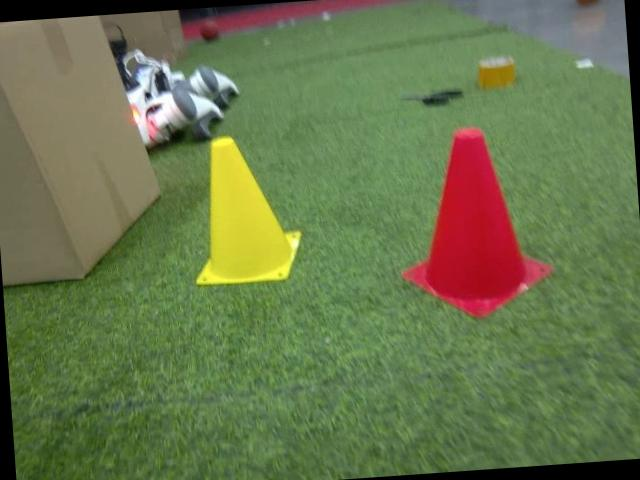red_barrel: (388, 122, 560, 325)
yellow_barrel: (182, 131, 307, 294)
